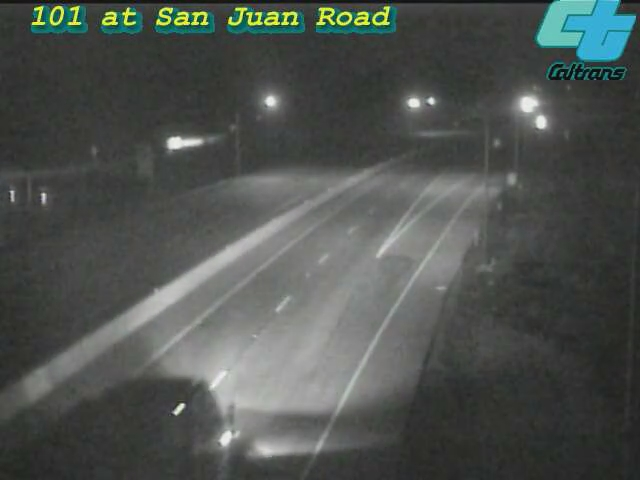vehicle: (81, 384, 191, 480), (520, 97, 570, 147), (504, 79, 554, 129)
